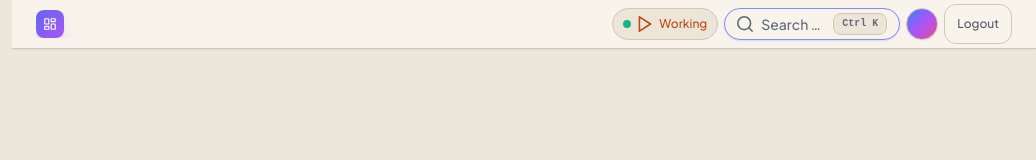
Test: TopNavigation attendance status pill › navigates to /attendance when clicked
Click the link with aria-label "Attendance status: Working" at [665, 24], box [612, 8, 718, 40]
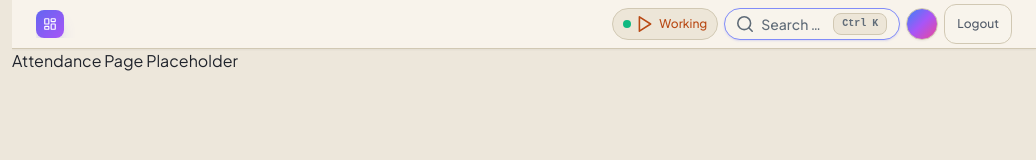
Now the text "Attendance Page Placeholder" is shown, box [12, 50, 238, 71]
